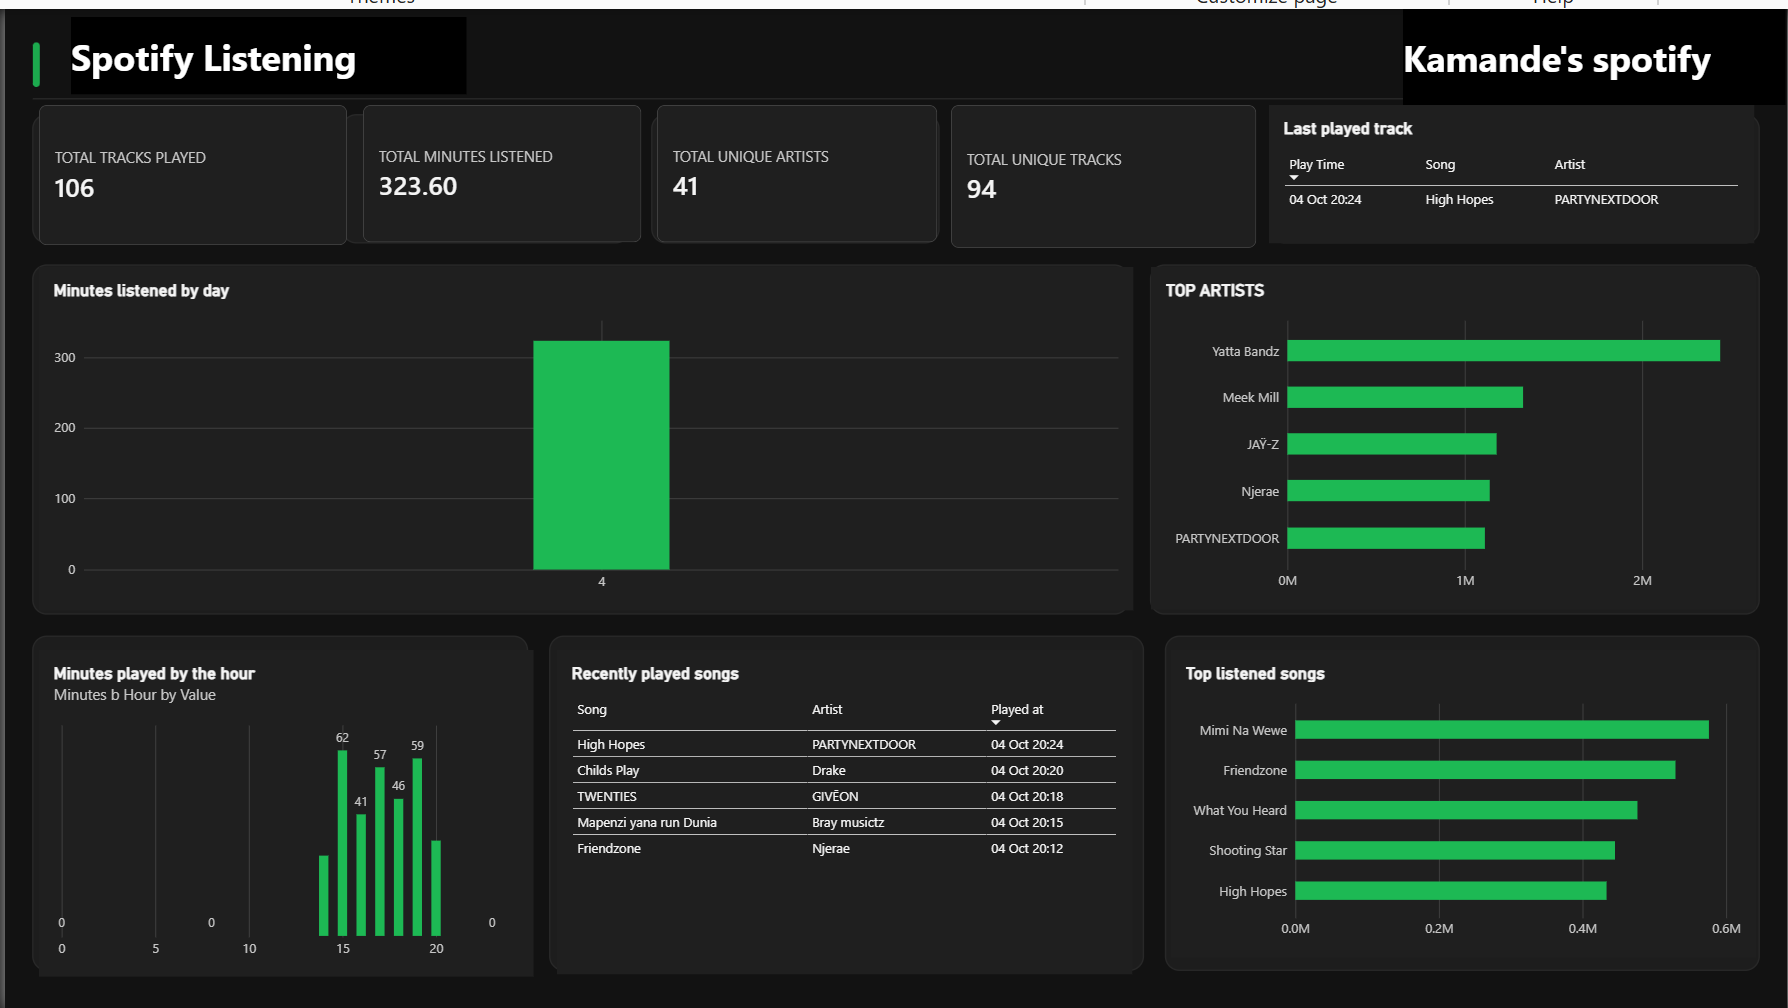

Layout of this report page (visuals, bound fields, positions):
{"tool":"powerbi","page":{"name":"Page 1","canvas":[1920,1080],"ordinal":0},"visuals":[{"type":"cardVisual","fields":{"Data":["Sum(analytics agg_daily_listening.minutes_listened)"]},"box":[385.5,104.1,300.7,148.4],"z":0},{"type":"cardVisual","fields":{"Data":["Sum(analytics agg_daily_listening.unique_artists)"]},"box":[701.7,104.1,302.7,148.4],"z":1000},{"type":"cardVisual","title":"TOTAL UNIQUE TRACKs","fields":{"Data":["Sum(analytics agg_daily_listening.unique_tracks)"]},"box":[1019.8,104.1,329.6,154.2],"z":2000},{"type":"cardVisual","fields":{"Data":["Sum(analytics agg_daily_listening.tracks_played)"]},"box":[36.2,103.7,332.9,152],"z":3000},{"type":"barChart","title":"TOP ARTISTS","fields":{"Category":["analytics fct_listening_events.primary_artist_name"],"Y":["Sum(analytics fct_listening_events.listened_ms)"]},"box":[1236,278,652,368],"z":4000},{"type":"clusteredBarChart","title":"Top listened songs","fields":{"Category":["analytics fct_listening_events.track_name"],"Y":["Sum(analytics fct_listening_events.listened_ms)"]},"box":[1256.9,690.1,630.4,331.6],"z":5000},{"type":"tableEx","title":"Recently played songs","fields":{"Values":["analytics fct_listening_events.track_name","analytics fct_listening_events.primary_artist_name","analytics fct_listening_events.Play Time"]},"box":[595.8,689.8,619.9,349.7],"z":6000},{"type":"tableEx","title":"Last played track","fields":{"Values":["analytics fct_listening_events.Play Time","analytics fct_listening_events.track_name","analytics fct_listening_events.primary_artist_name"]},"box":[1362.5,103.9,522.8,148.9],"z":7000},{"type":"shape","box":[71.1,8.6,426.7,83.7],"z":8000},{"type":"shape","box":[1507.3,0,412.7,103.7],"z":9000},{"type":"clusteredColumnChart","title":"Minutes listened by day","fields":{"Category":["analytics agg_daily_listening.play_date.Variation.Date Hierarchy.Day"],"Y":["Sum(analytics agg_daily_listening.minutes_listened)"]},"box":[36.2,277.4,1179.5,369],"z":10000},{"type":"clusteredColumnChart","title":"Minutes played by the hour","fields":{"Category":["Hours.Value"],"Y":["analytics fct_listening_events.Minutes b Hour"]},"box":[36.2,689.8,533.1,352.2],"z":11000}]}

Visuals, with their boxes on the page's 1920x1080 design canvas (x1, y1, x2, y2). These are canvas units, not pixel positions in the 1788x1008 screenshot, which may show the page scaled, cropped or inside an application window:
cardVisual - Sum(analytics agg_daily_listening.minutes_listened): box=[386, 104, 686, 252]
cardVisual - Sum(analytics agg_daily_listening.unique_artists): box=[702, 104, 1004, 252]
"TOTAL UNIQUE TRACKs" cardVisual: box=[1020, 104, 1349, 258]
cardVisual - Sum(analytics agg_daily_listening.tracks_played): box=[36, 104, 369, 256]
"TOP ARTISTS" barChart: box=[1236, 278, 1888, 646]
"Top listened songs" clusteredBarChart: box=[1257, 690, 1887, 1022]
"Recently played songs" tableEx: box=[596, 690, 1216, 1040]
"Last played track" tableEx: box=[1362, 104, 1885, 253]
shape: box=[71, 9, 498, 92]
shape: box=[1507, 0, 1920, 104]
"Minutes listened by day" clusteredColumnChart: box=[36, 277, 1216, 646]
"Minutes played by the hour" clusteredColumnChart: box=[36, 690, 569, 1042]
